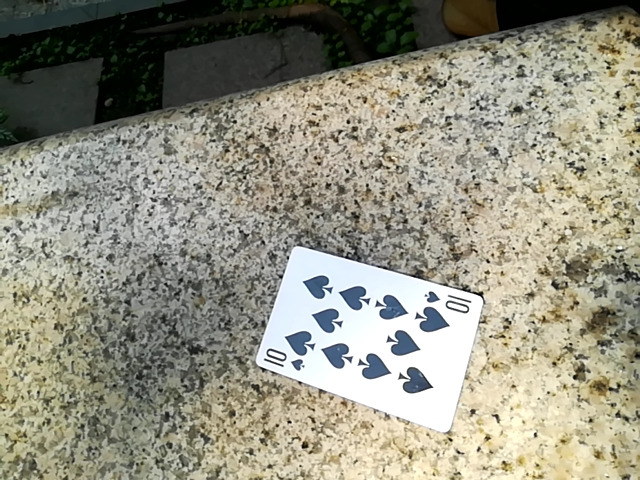ht 10: (250, 245, 476, 434)
